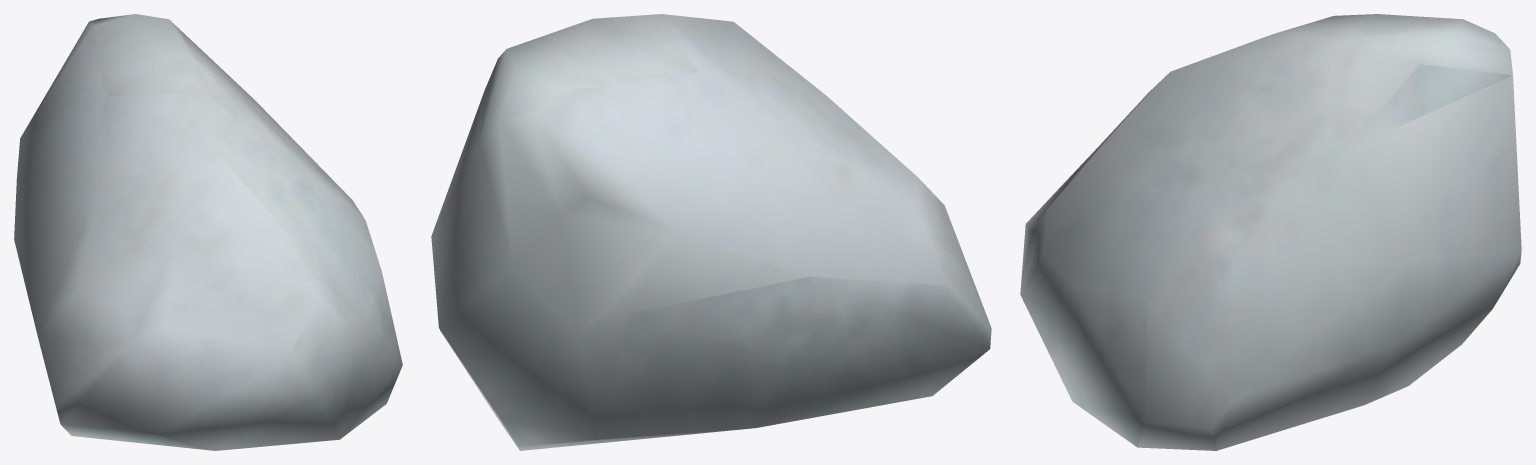
Rendered from P_RockClassic9.obj.
3 renders of one model, left to right at view 1: azimuth 30°, elevation 25°; view 2: azimuth 150°, elevation 25°; view 3: azimuth 270°, elevation 25°, orthographic. The views are drawn at different scales.
Bounding box in the file's own units: 2.29 × 1.91 × 2.43.
